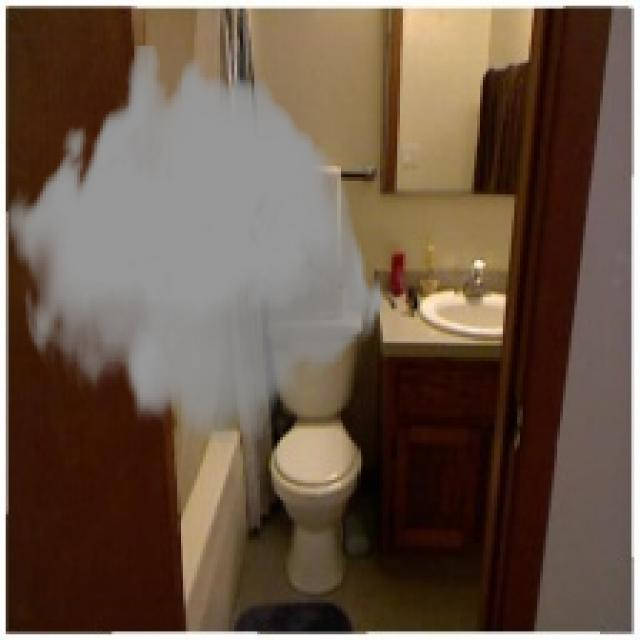smoke: (6, 46, 386, 443)
